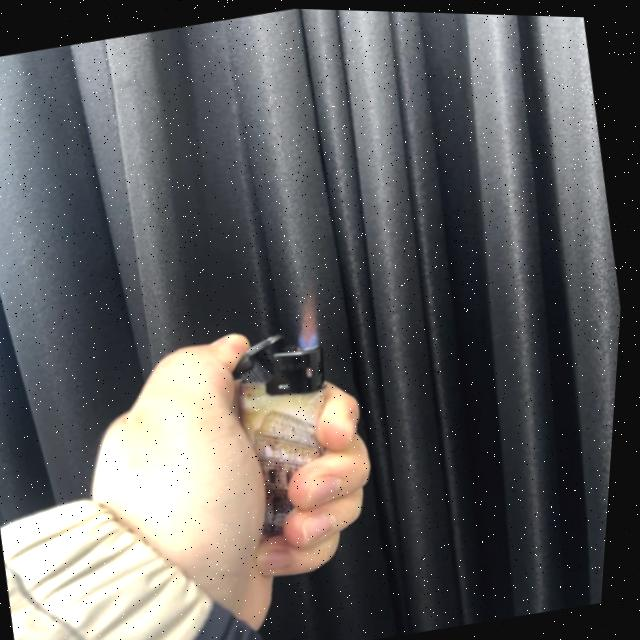Fire: (289, 285, 331, 352)
